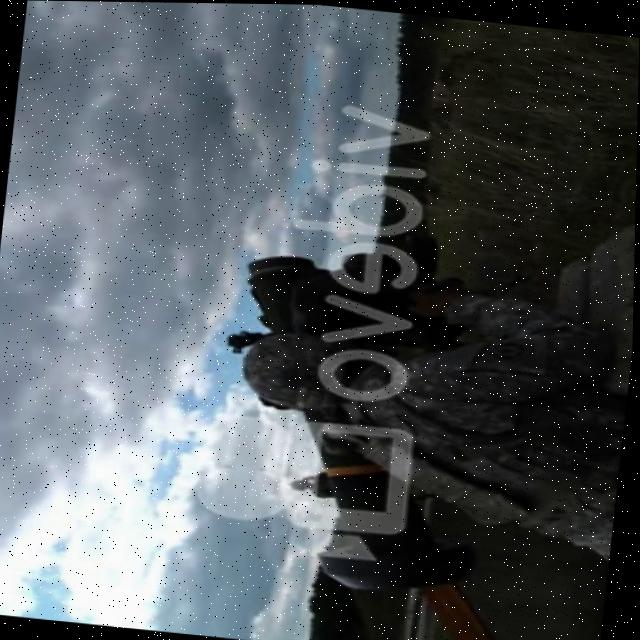rocket: (214, 247, 503, 596)
